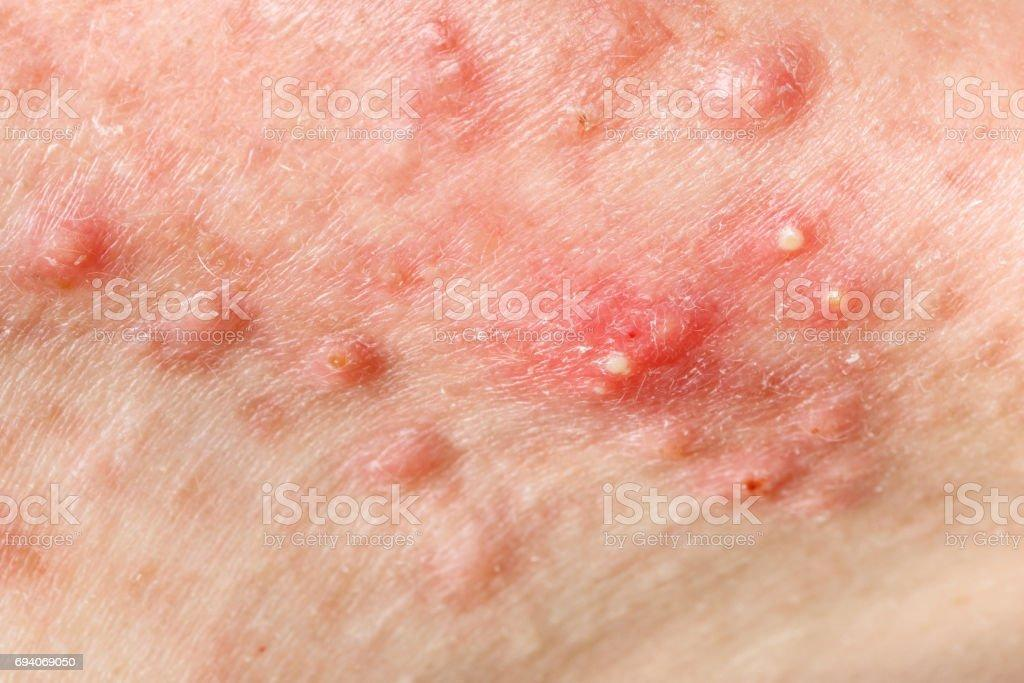cystic: (688, 14, 839, 171), (138, 267, 271, 386), (19, 153, 105, 318), (797, 394, 890, 525), (405, 7, 508, 122), (326, 316, 402, 405)
purulent: (781, 271, 890, 344), (749, 207, 837, 274)
sebo-crystan-conglo: (561, 288, 720, 425), (708, 450, 781, 535)
